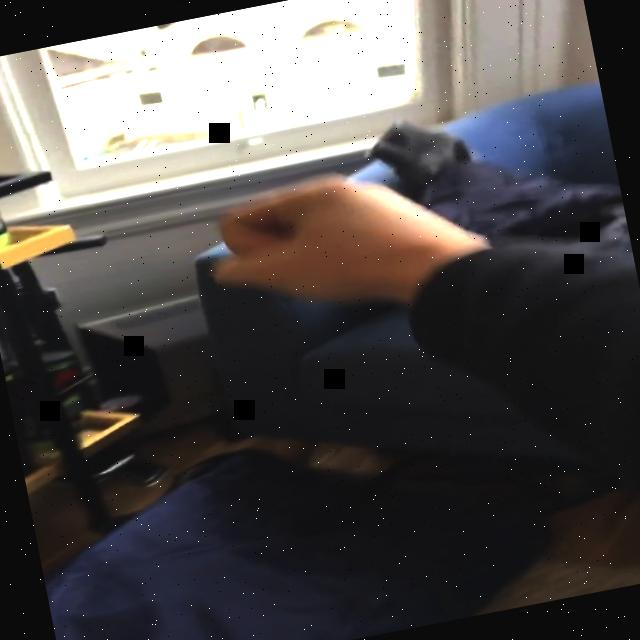Rock: (201, 156, 467, 335)
